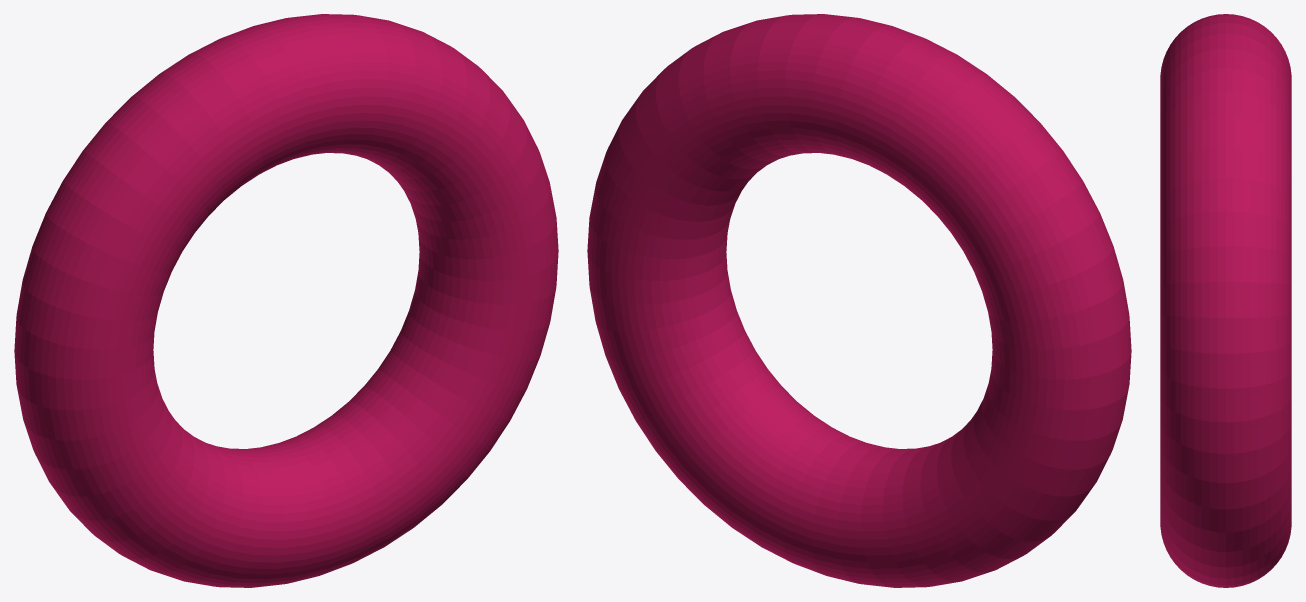
3 renders of one model, left to right at view 1: azimuth 30°, elevation 25°; view 2: azimuth 150°, elevation 25°; view 3: azimuth 270°, elevation 25°, orthographic. The views are drawn at different scales.
Parts seen in each view (by area): view 1: world; view 2: world; view 3: world.
Part boxes in pixels (left/top/right/bottom): world: left=14, top=14, right=558, bottom=587; world: left=587, top=14, right=1131, bottom=587; world: left=1160, top=14, right=1291, bottom=587.
Size of the model in its own units: 32 by 31.94 by 7.32.
